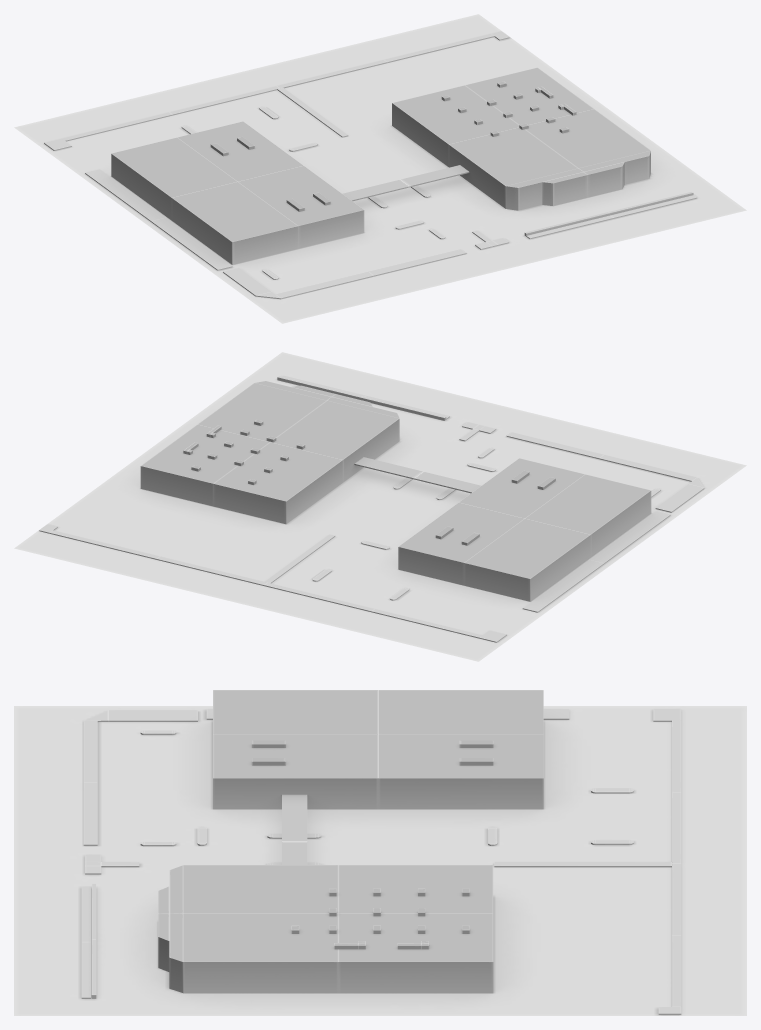
The picture shows the model from 3 angles, top to bottom: view 1: azimuth 30°, elevation 25°; view 2: azimuth 150°, elevation 25°; view 3: azimuth 270°, elevation 25°; orthographic projection. The views are drawn at different scales.
Visible parts, largest first — view 1: pPlane1, pCube2, pCube1, pCube10, pCube14, pCube11; view 2: pPlane1, pCube2, pCube1, pCube10, pCube14, pCube11; view 3: pPlane1, pCube2, pCube1, pCube10, pCube14, pCube11.
Part boxes in pixels (<box>): pPlane1: <box>14,14,746,323</box>; pCube2: <box>392,67,650,210</box>; pCube1: <box>111,121,364,264</box>; pCube10: <box>44,31,697,299</box>; pCube14: <box>342,165,469,201</box>; pCube11: <box>524,191,693,236</box>; pPlane1: <box>14,352,746,661</box>; pCube2: <box>140,381,399,524</box>; pCube1: <box>398,458,651,601</box>; pCube10: <box>39,375,704,642</box>; pCube14: <box>354,457,481,493</box>; pCube11: <box>277,376,446,420</box>; pPlane1: <box>14,706,746,1015</box>; pCube2: <box>158,865,493,993</box>; pCube1: <box>213,690,543,809</box>; pCube10: <box>81,708,681,1014</box>; pCube14: <box>282,794,307,864</box>; pCube11: <box>91,883,96,998</box>.
Bounding box in the file's own units: 77.97 × 4.1 × 77.97.
Materials: 1 (1 with a texture image).
